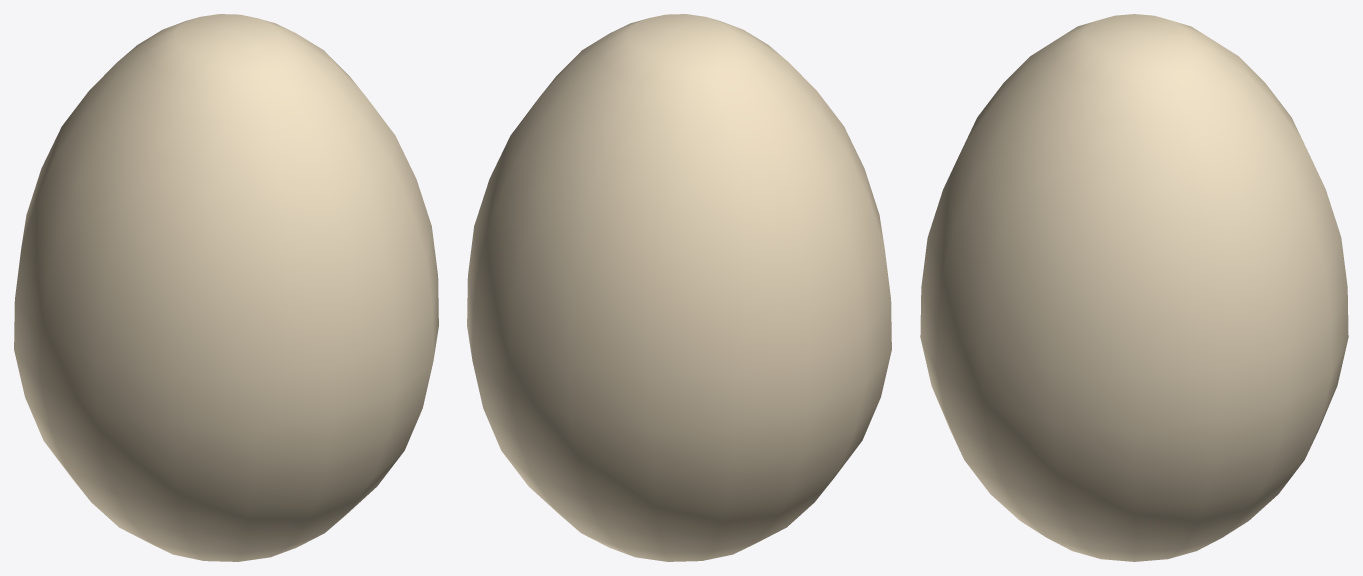
The model's file is SM_Egg_01.fbx.
3 renders of one model, left to right at view 1: azimuth 30°, elevation 25°; view 2: azimuth 150°, elevation 25°; view 3: azimuth 270°, elevation 25°, orthographic.
Parts seen in each view (by area): view 1: SM_Egg_01; view 2: SM_Egg_01; view 3: SM_Egg_01.
Part boxes in pixels (bbox=[...]): SM_Egg_01: bbox=[14, 14, 438, 561]; SM_Egg_01: bbox=[467, 14, 891, 561]; SM_Egg_01: bbox=[920, 14, 1348, 561].
Bounding box in the file's own units: 3.78 × 5 × 3.78.
